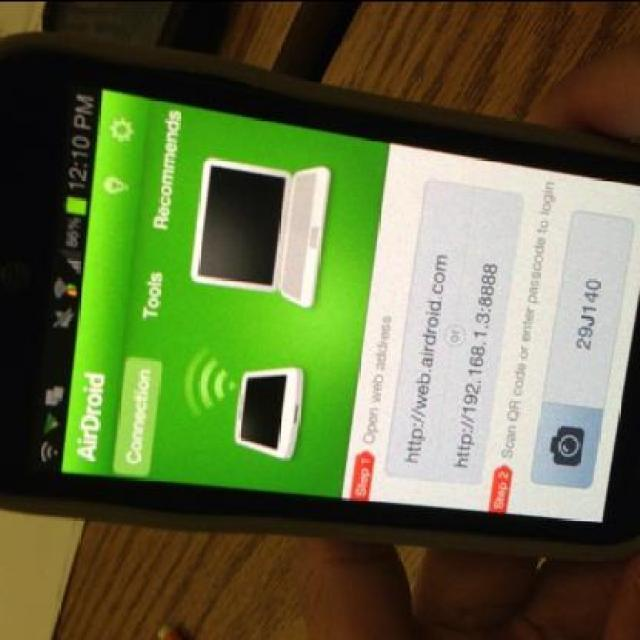phone: (0, 29, 638, 570)
